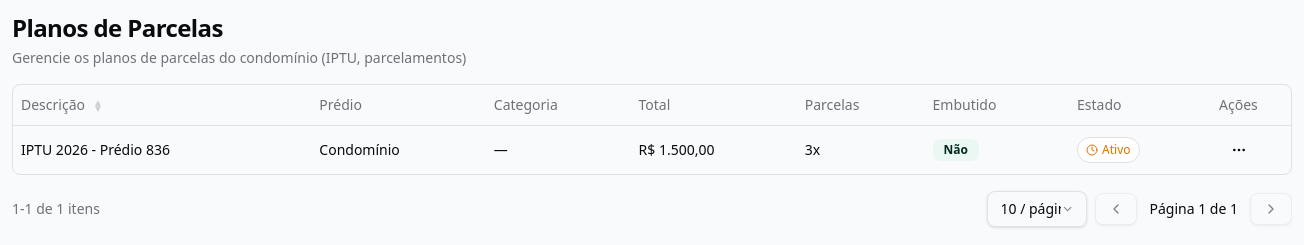
Test: InstallmentPlansPage › hides write actions for non-admins (only the read-only schedule action remains)
The width and height of the screenshot is (1304, 245).
Expected: the heading "Planos de Parcelas" is shown, 12,11 -> 223,44
Click the button named "ações do plano" at (1239, 150), box 1219,134 -> 1259,166
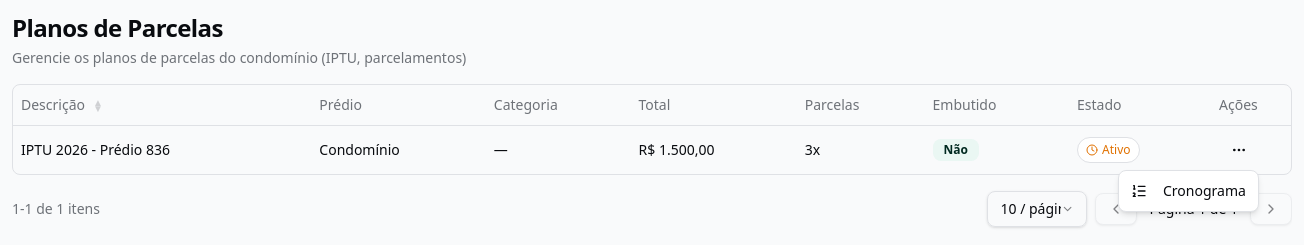
Now the menu item "Cronograma" is shown, box 1131,181 -> 1246,200
